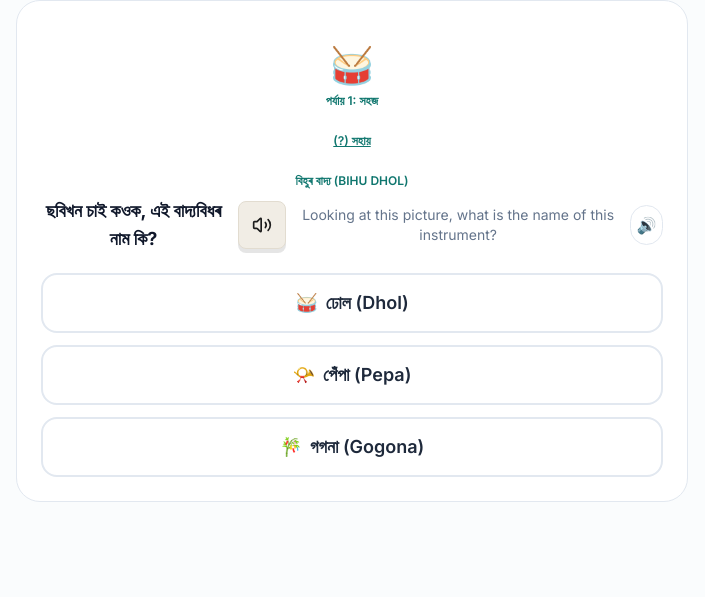
Scenario: Task 22–25: Cognitive Game Modules & Cultural Reminiscence Tests › 1. GridMemoryGame renders Bihu prompt, accepts correct touch answer and advances
Check: the text "বিহুৰ বাদ্য (Bihu Dhol)" is shown, box [296,173,408,188]
Select correct option "dhol"
Click the button "🥁ঢোল (Dhol)": (352, 303) [41,273,663,333]
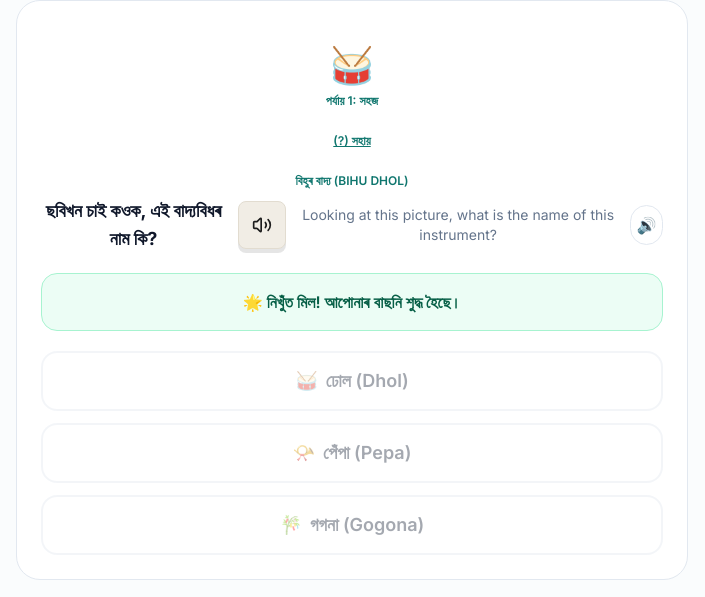
Check: the text "🌟 নিখুঁত মিল! আপোনাৰ বাছনি শুদ্ধ হৈছে।" is shown, box [41,273,663,331]
